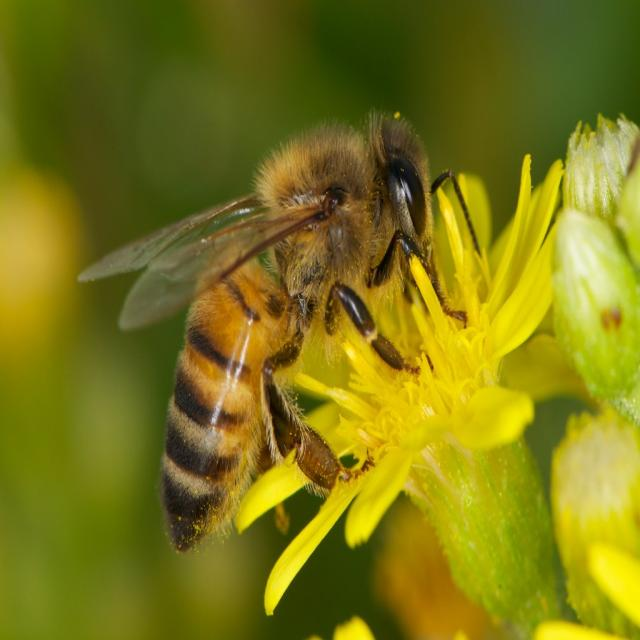Apis-mellifera-scutellata: (93, 79, 444, 548)
